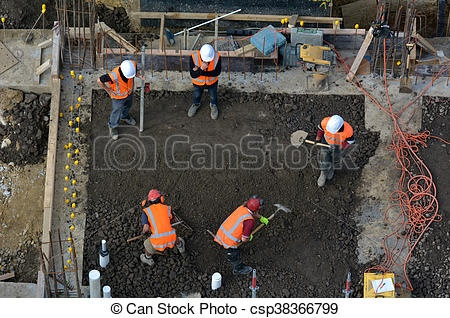red: (147, 187, 162, 205), (247, 195, 261, 213)
white: (119, 60, 136, 81), (327, 114, 344, 135), (200, 44, 214, 64)
